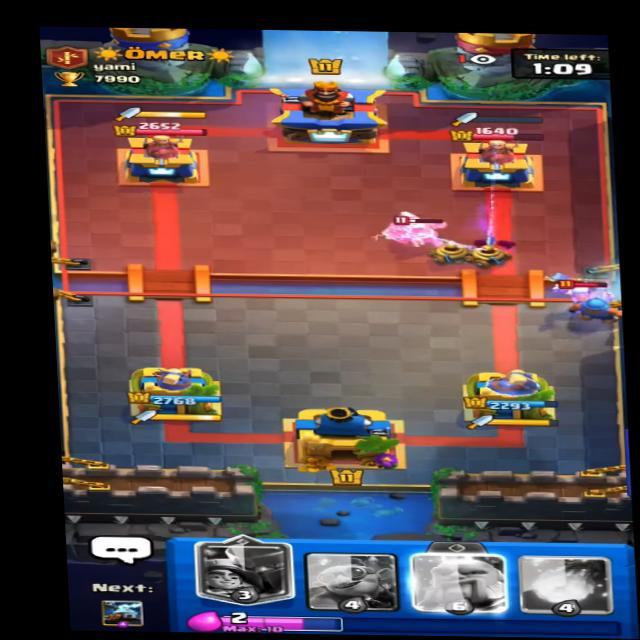Lumberjack: (540, 270, 617, 309)
Monk: (377, 207, 448, 246)
